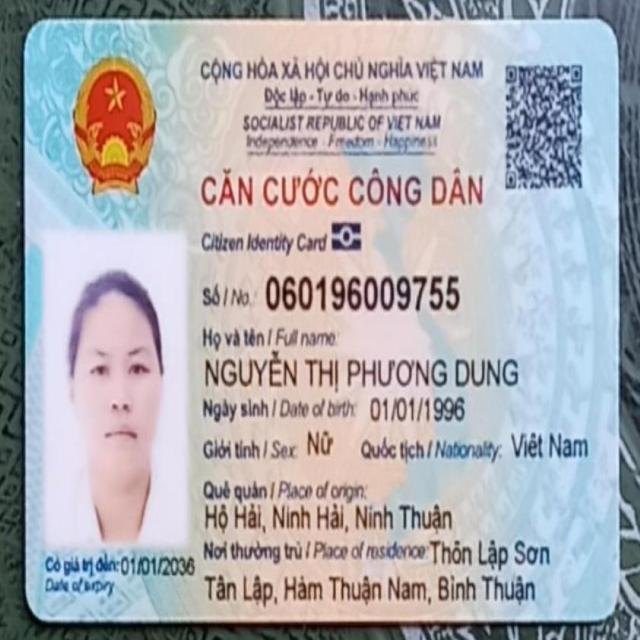current_place: (200, 567, 539, 607), (431, 528, 554, 577)
dob: (366, 394, 466, 426)
expire_date: (119, 553, 197, 582)
gender: (303, 427, 336, 462)
id: (265, 273, 464, 312)
name: (201, 347, 521, 392)
nationality: (509, 422, 592, 468)
origin_place: (201, 500, 460, 538)
qr: (502, 58, 590, 194)
